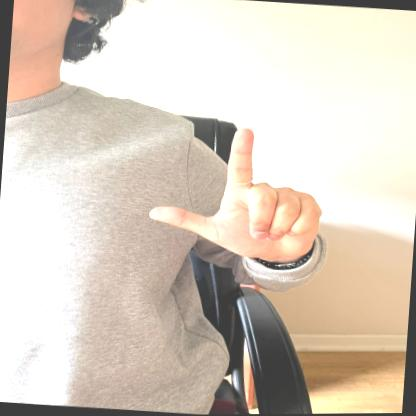L: (142, 117, 330, 270)
